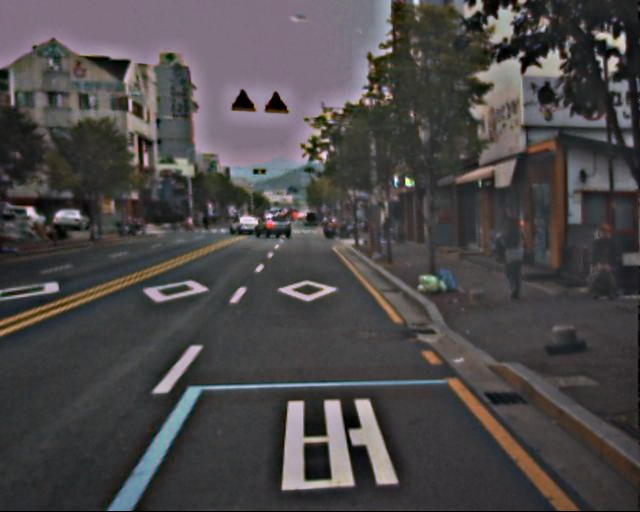person: (493, 217, 529, 300), (585, 221, 621, 303)
